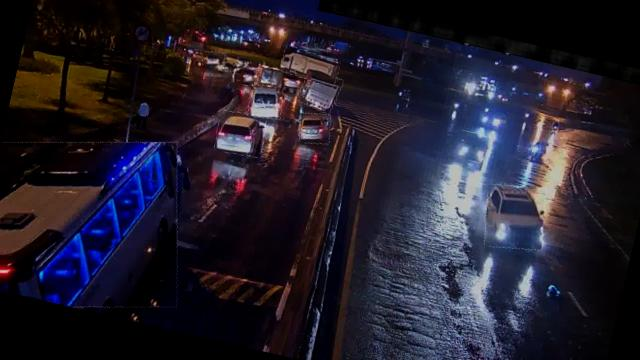Bus: (0, 113, 203, 328), (244, 81, 286, 122)
Car: (478, 178, 552, 255), (212, 108, 268, 160), (296, 110, 334, 147), (454, 131, 492, 166), (232, 65, 260, 89), (201, 50, 226, 70)
Truck: (278, 46, 340, 87), (296, 66, 344, 114)
